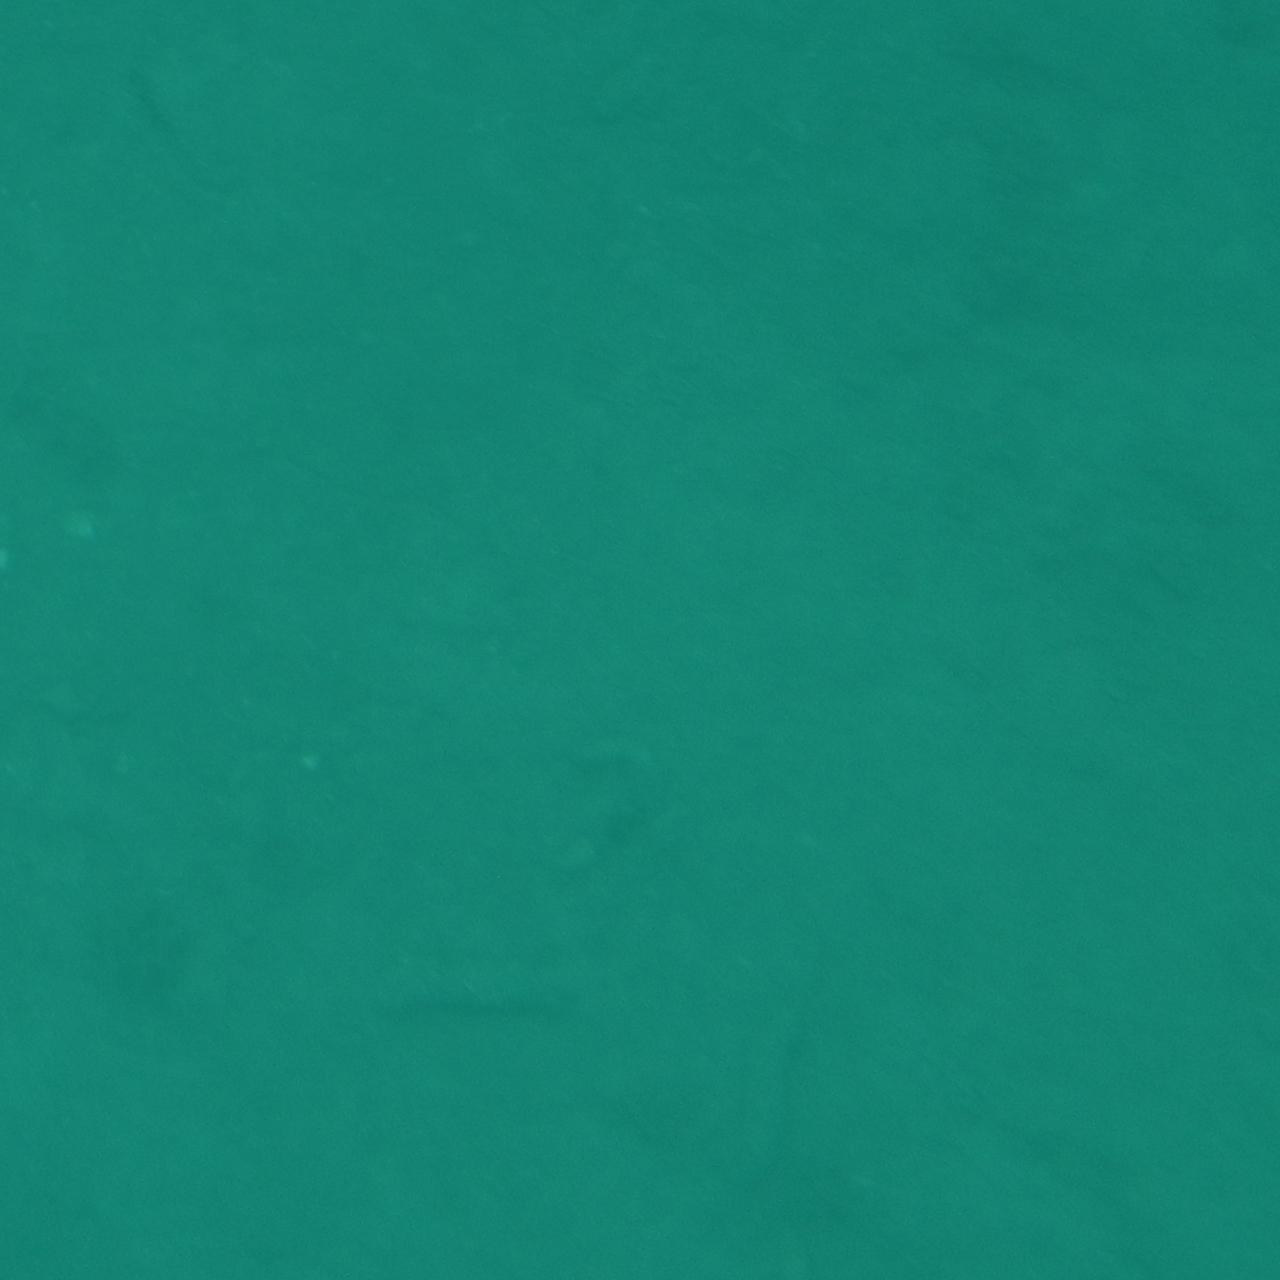Holothuria tubulosa: (712, 1006, 877, 1238), (346, 945, 628, 1073)
